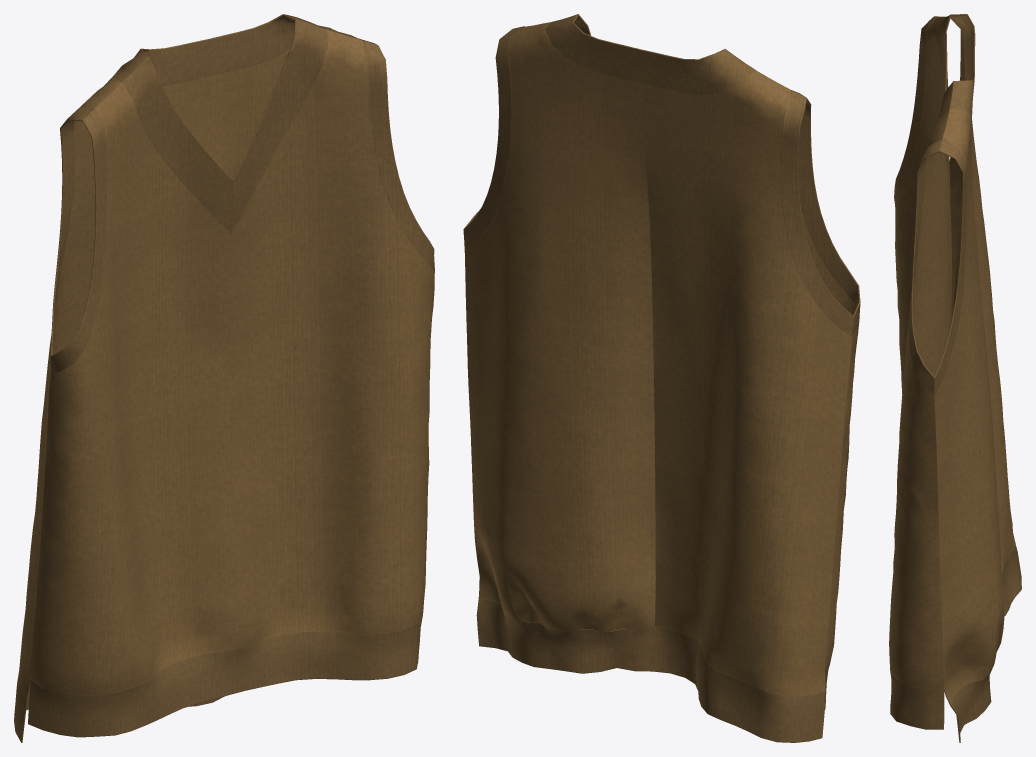
Rendered from FLG_13_09_3.fbx.
The picture shows the model from 3 angles, left to right: view 1: azimuth 30°, elevation 25°; view 2: azimuth 150°, elevation 25°; view 3: azimuth 270°, elevation 25°; orthographic projection. The views are drawn at different scales.
Parts seen in each view (by area): view 1: FLG_13_09_3; view 2: FLG_13_09_3; view 3: FLG_13_09_3.
Part boxes in pixels (box(x1,y1,x2,y2)): FLG_13_09_3: box(14, 14, 434, 742); FLG_13_09_3: box(463, 14, 860, 742); FLG_13_09_3: box(889, 14, 1021, 742).
Size of the model in its own units: 47.28 by 77.26 by 15.04.
